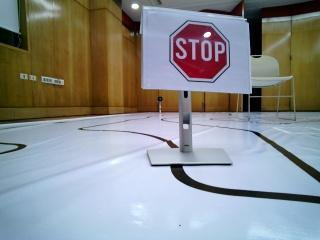stop: (145, 12, 248, 93)
